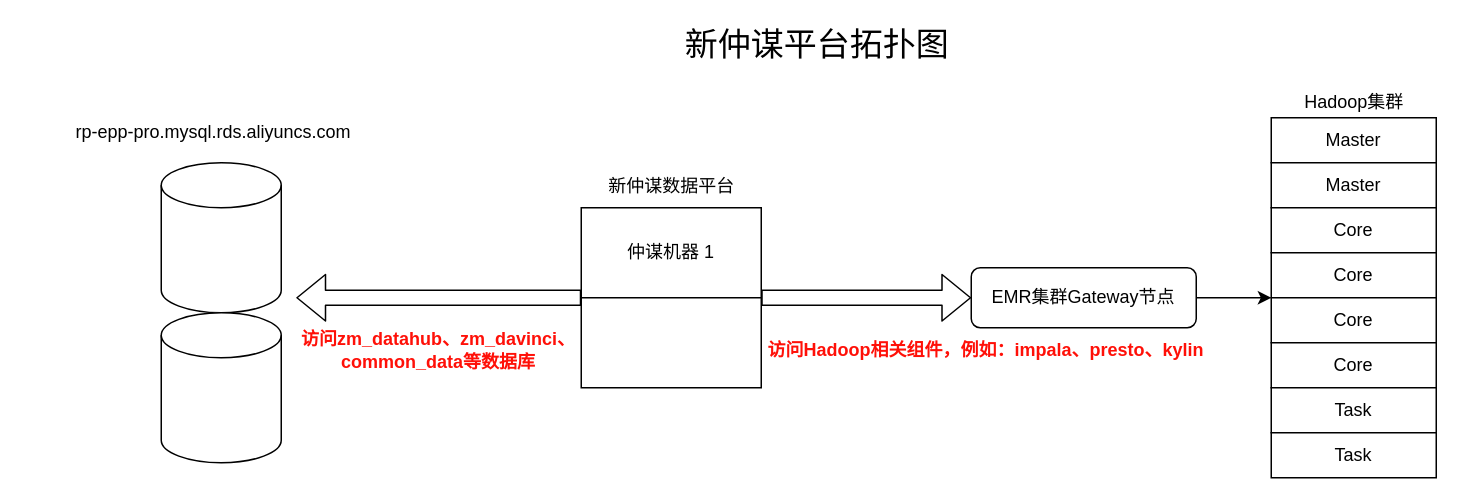
Image size: 1463x504. Some labels were removed from this diagram. Each missing label, with the centre of its shape:
"zm_datahub" goes at point 220,237.
"zm_davinci" goes at point 220,387.
"仲谋机器 2" goes at point 670,342.
